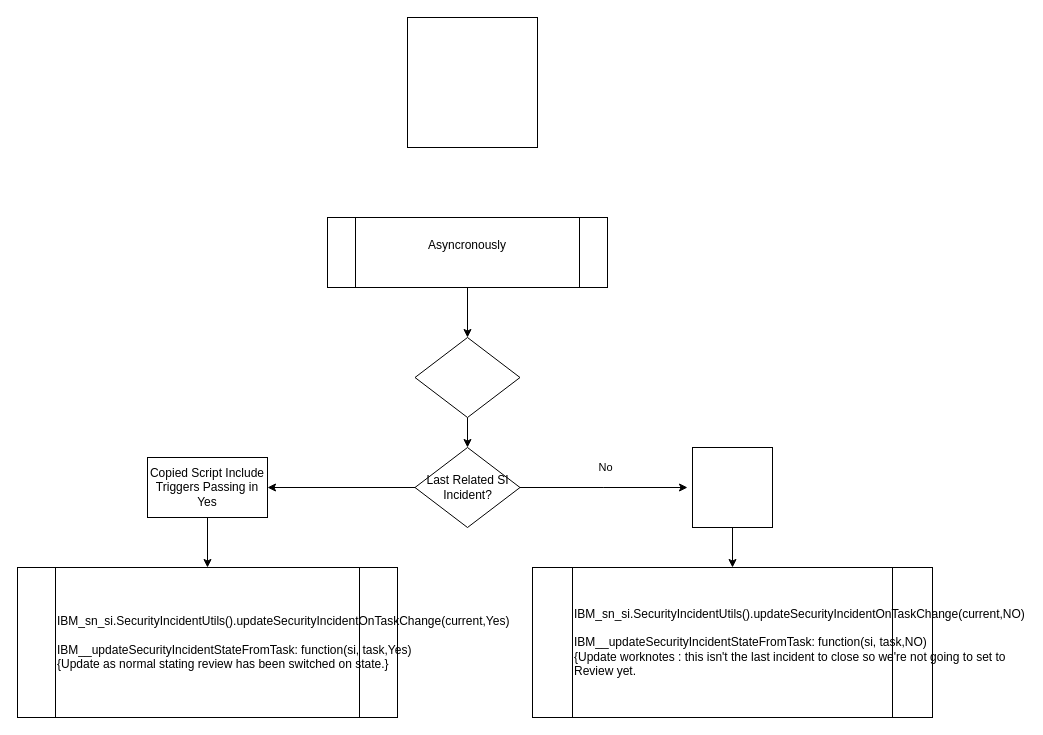
This 1043x735 diagram has some shape labels left out. Here are the shapes that lost their labels. From the top down, the centre of each, then its label:
[472,82]: Update Business Rule
[467,377]: Related to SI Incident
[732,487]: Copied Script Include Triggers Passing in No
